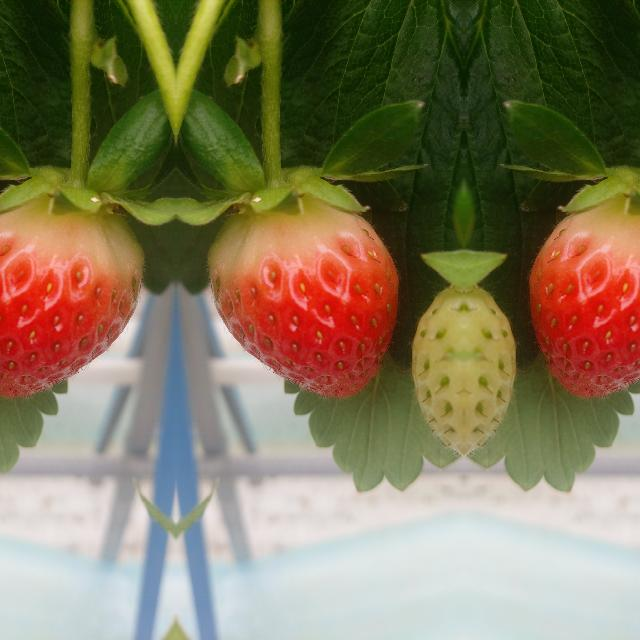Health_100: (206, 194, 398, 396), (0, 193, 143, 396), (528, 193, 640, 396)
